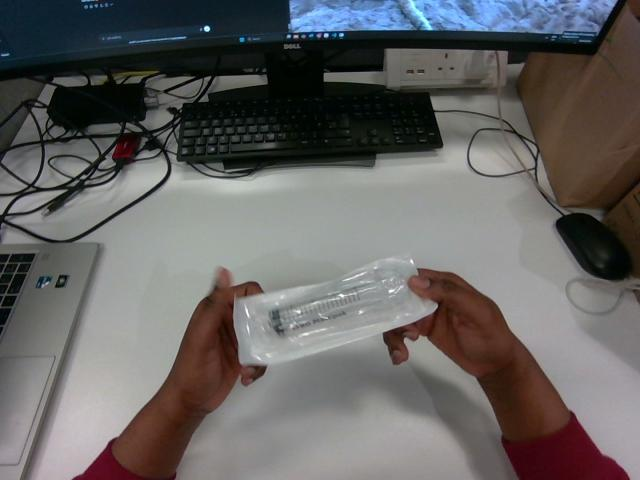syringe: (234, 255, 436, 364)
